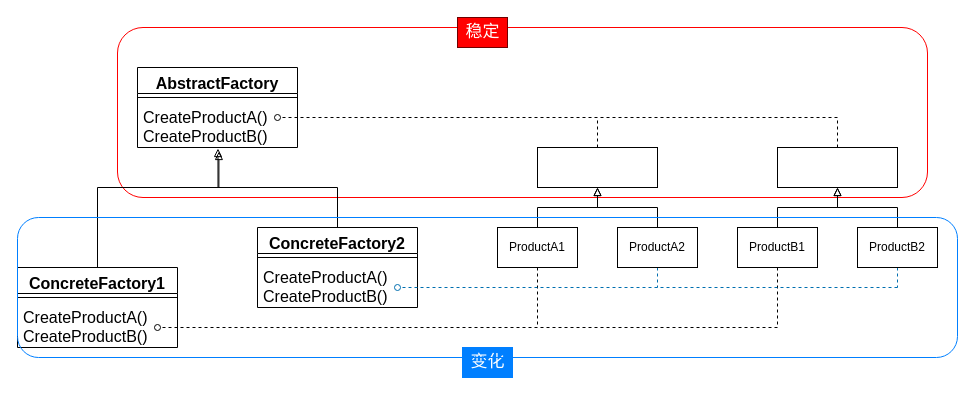
Some shapes in this 975 by 395 pixel diagram are drawn without their labels. Here are the shapes that lost their labels. From the top down, the centre of each, then its label:
the point at 597,167: AbstractProductA
the point at 837,167: AbstractProductB
